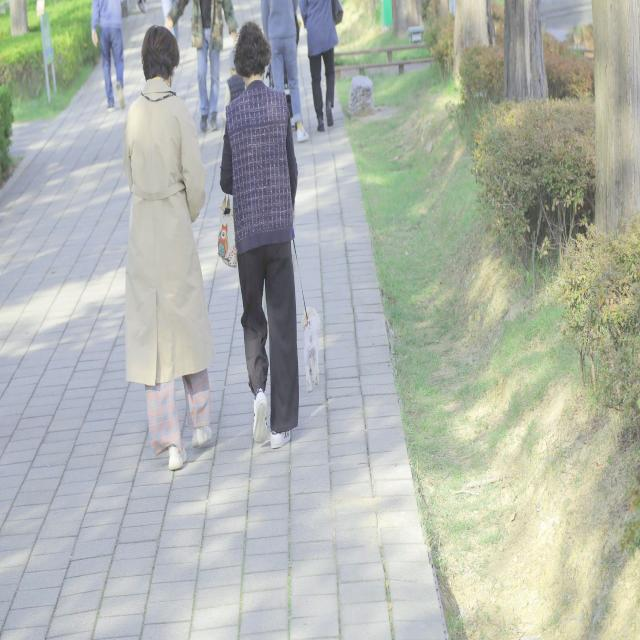Leashed_Dog: (274, 225, 321, 395)
